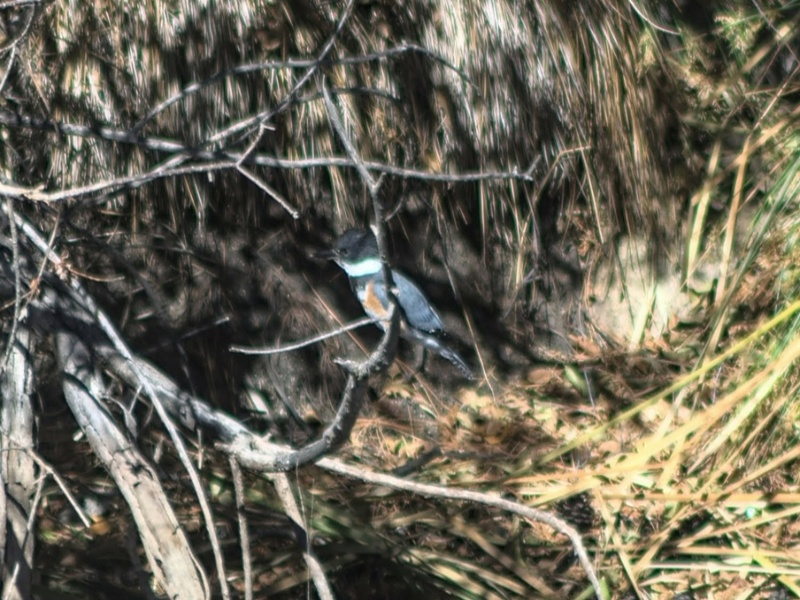kingfisher: (314, 222, 478, 379)
